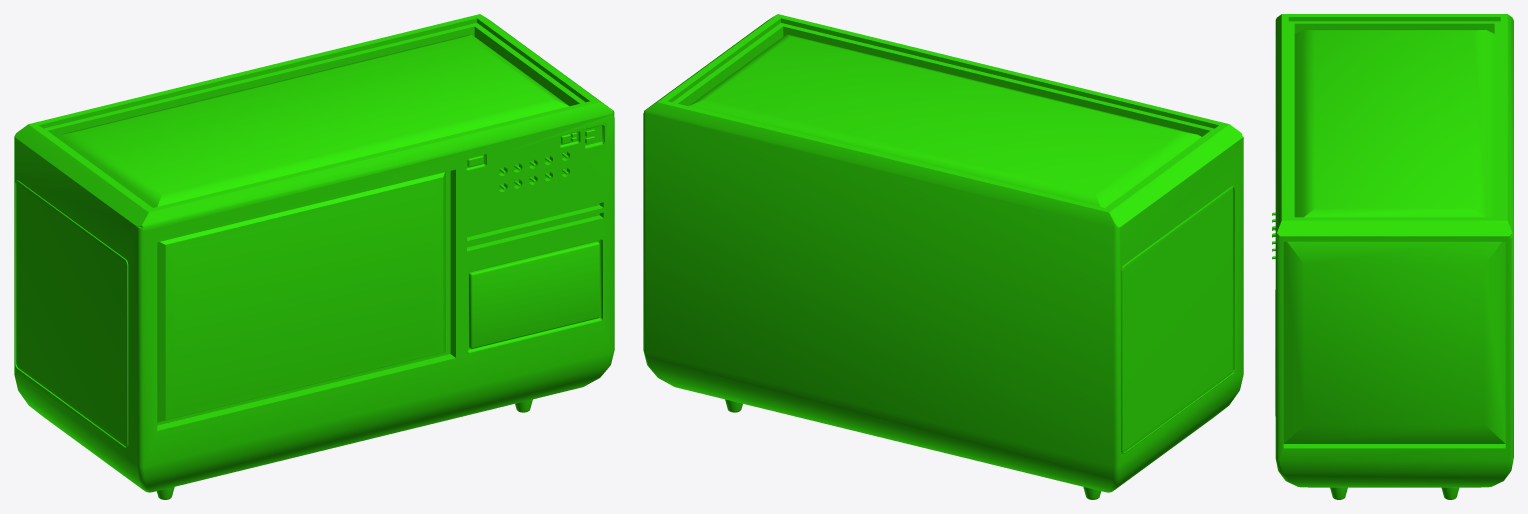
Rendered from RadioNormalVerde.fbx.
The picture shows the model from 3 angles, left to right: view 1: azimuth 30°, elevation 25°; view 2: azimuth 150°, elevation 25°; view 3: azimuth 270°, elevation 25°; orthographic projection. The views are drawn at different scales.
Parts seen in each view (by area): view 1: tv; view 2: tv; view 3: tv.
Part boxes in pixels (x1,y1,x2,y2): tv: (14, 14, 614, 499); tv: (643, 14, 1243, 499); tv: (1272, 14, 1513, 499).
Bounding box in the file's own units: 349 × 223 × 164.
